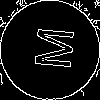M: (25, 25, 74, 70)
